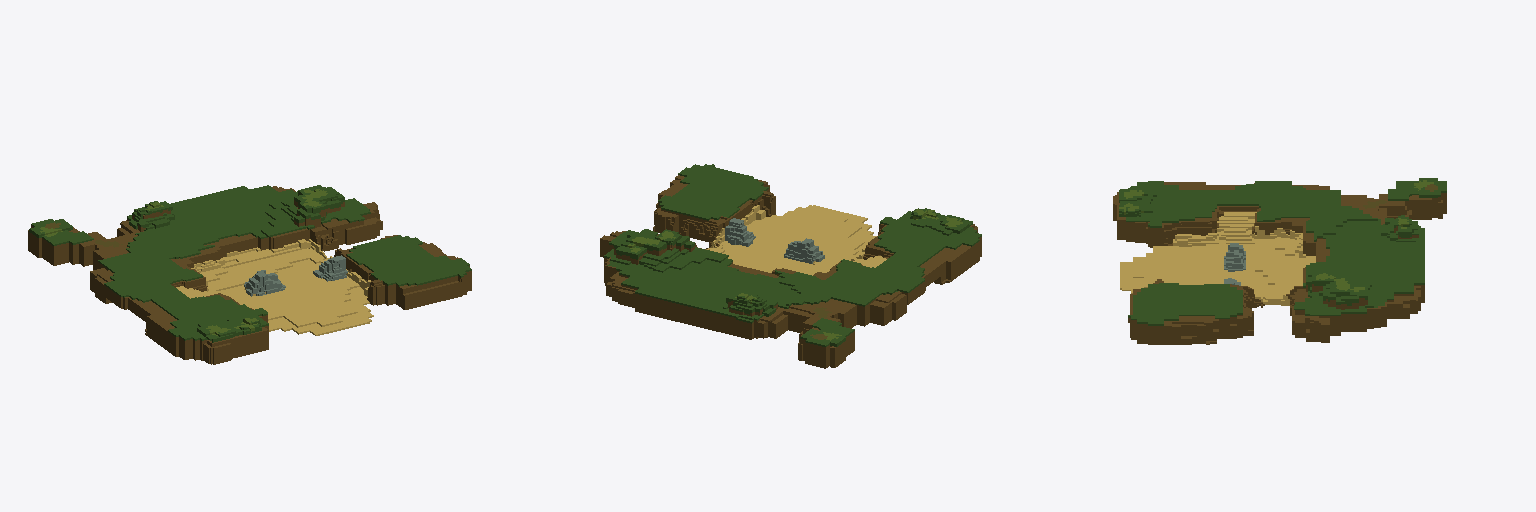
The picture shows the model from 3 angles: view 1: azimuth 30°, elevation 25°; view 2: azimuth 150°, elevation 25°; view 3: azimuth 270°, elevation 25°; orthographic projection.
Parts seen in each view (by area): view 1: object 1; view 2: object 1; view 3: object 1.
Boxes of the visible parts, box(x1,y1,x2,y2) form: object 1: box(28, 185, 471, 364); object 1: box(600, 164, 981, 368); object 1: box(1113, 178, 1446, 344).
Bounding box in the file's own units: 18.7 × 2.1 × 18.3.
1 materials, 1 textured.